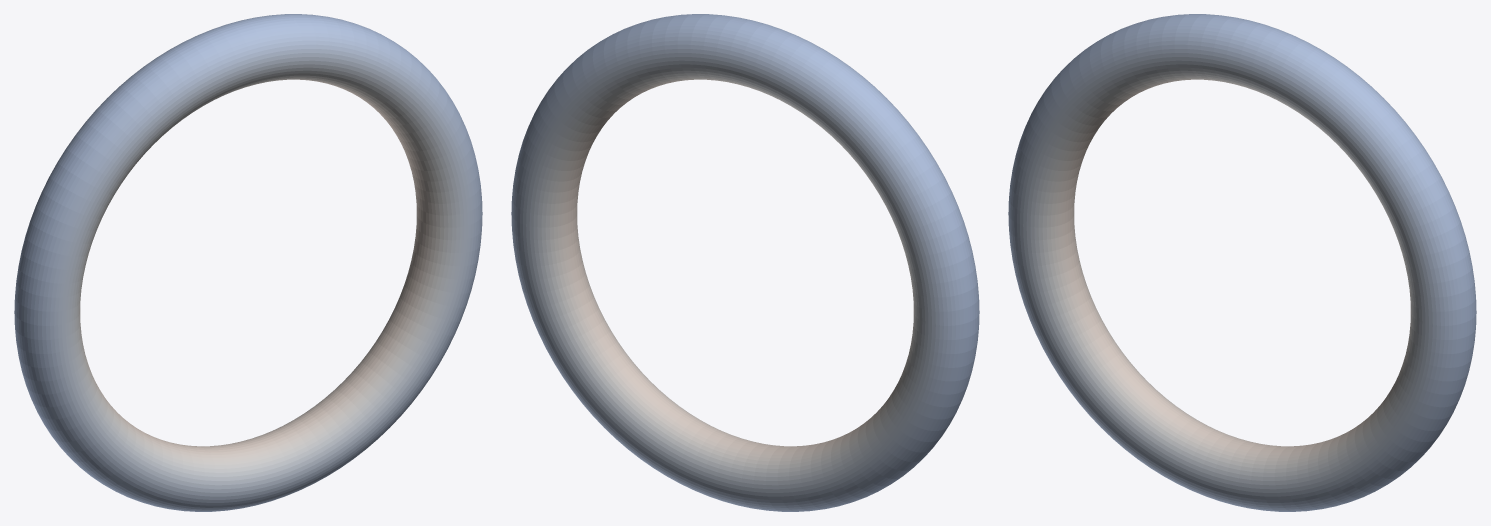
3 views of the same model, side by side, from view 1: azimuth 30°, elevation 25°; view 2: azimuth 150°, elevation 25°; view 3: azimuth 330°, elevation 25° (orthographic).
Visible parts, largest first — view 1: world; view 2: world; view 3: world.
Part boxes in pixels (bbox=[...]): world: bbox=[14, 14, 482, 511]; world: bbox=[511, 14, 979, 511]; world: bbox=[1008, 14, 1476, 511].
Bounding box in the file's own units: 31.2 × 31.2 × 3.86.
